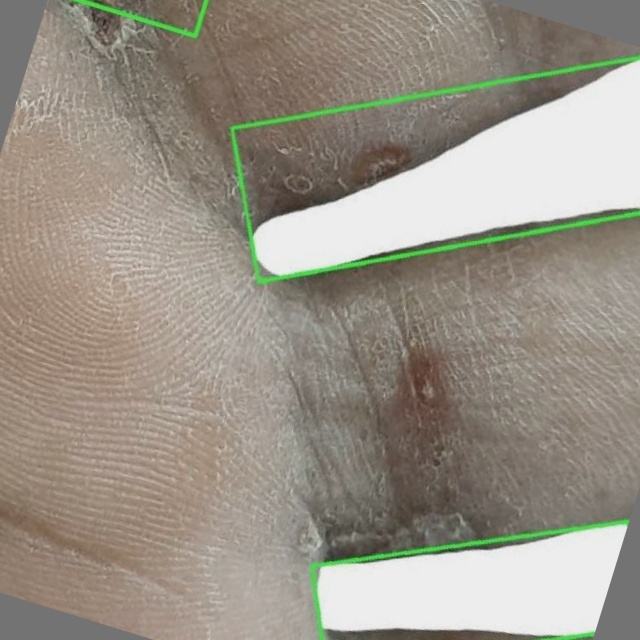Scabies: (224, 41, 639, 281), (304, 500, 627, 639)
